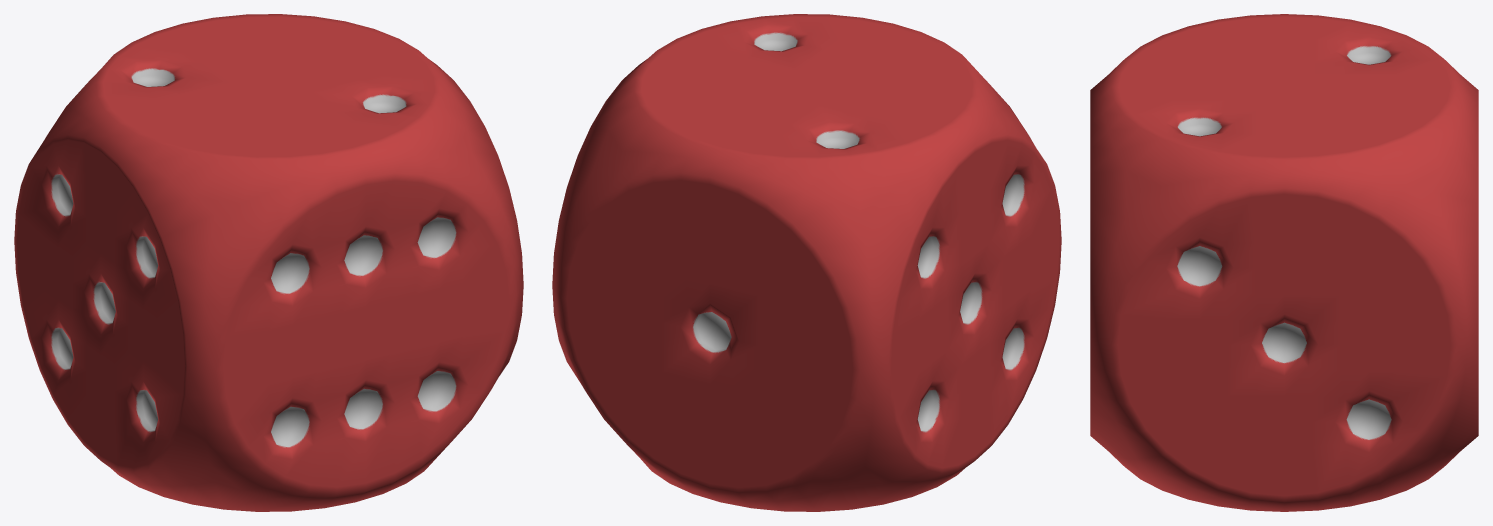
The model's file is diceCollada.dae.
The picture shows the model from 3 angles, left to right: view 1: azimuth 30°, elevation 25°; view 2: azimuth 150°, elevation 25°; view 3: azimuth 270°, elevation 25°; orthographic projection.
Visible parts, largest first — view 1: Dice; view 2: Dice; view 3: Dice.
Part boxes in pixels (x1,y1,x2,y2): Dice: [14, 14, 523, 511]; Dice: [552, 14, 1061, 511]; Dice: [1090, 14, 1478, 511].
Size of the model in its own units: 0.01 by 0.01 by 0.01.
Materials: 1 (1 with a texture image).
